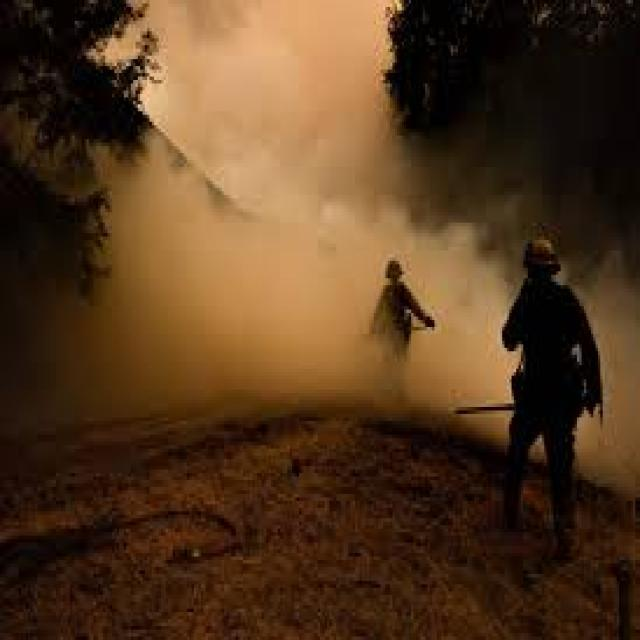Smoke: (3, 176, 640, 498)
